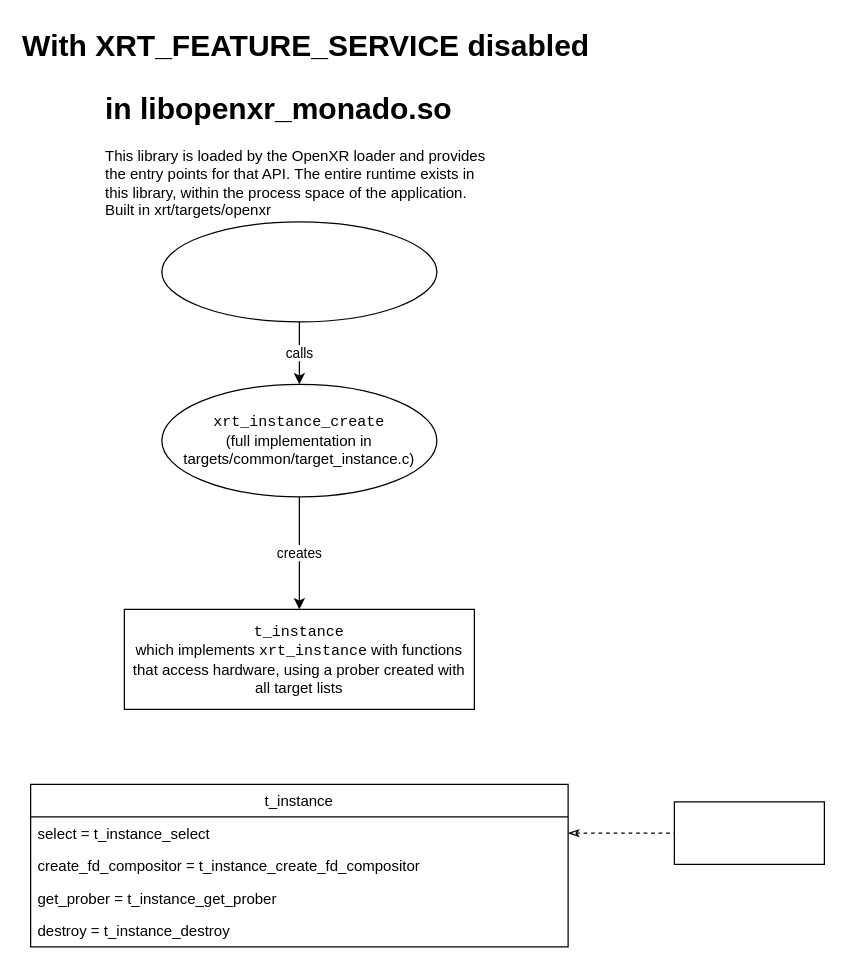
This 846x971 diagram has some shape labels left out. Here are the shapes that lost their labels. From the top down, the centre of each, then its label:
At (299,271): "xrCreateInstance (in state_trackers/oxr/oxr_instance.c)".
At (748,832): "«interface» xrt_instance".
